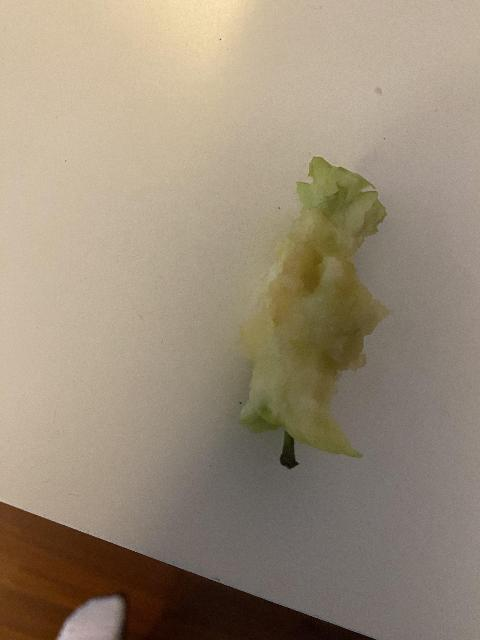Organik: (238, 157, 395, 478)
